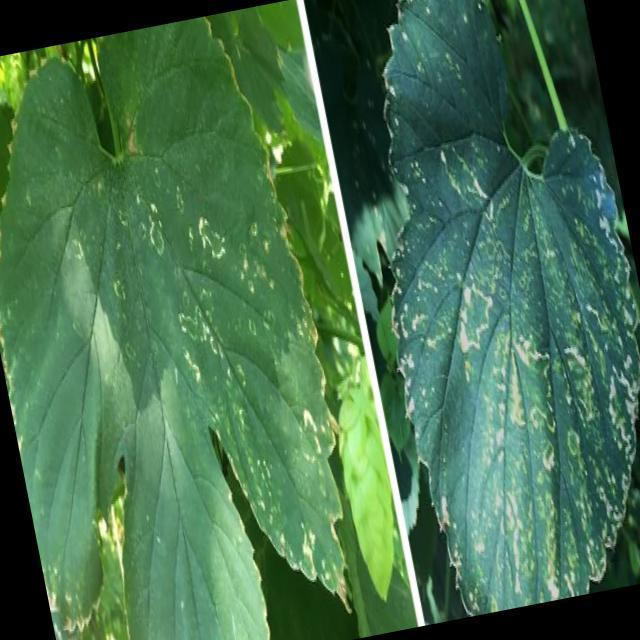Mosaic Virus: (332, 0, 640, 614), (112, 54, 368, 608)
